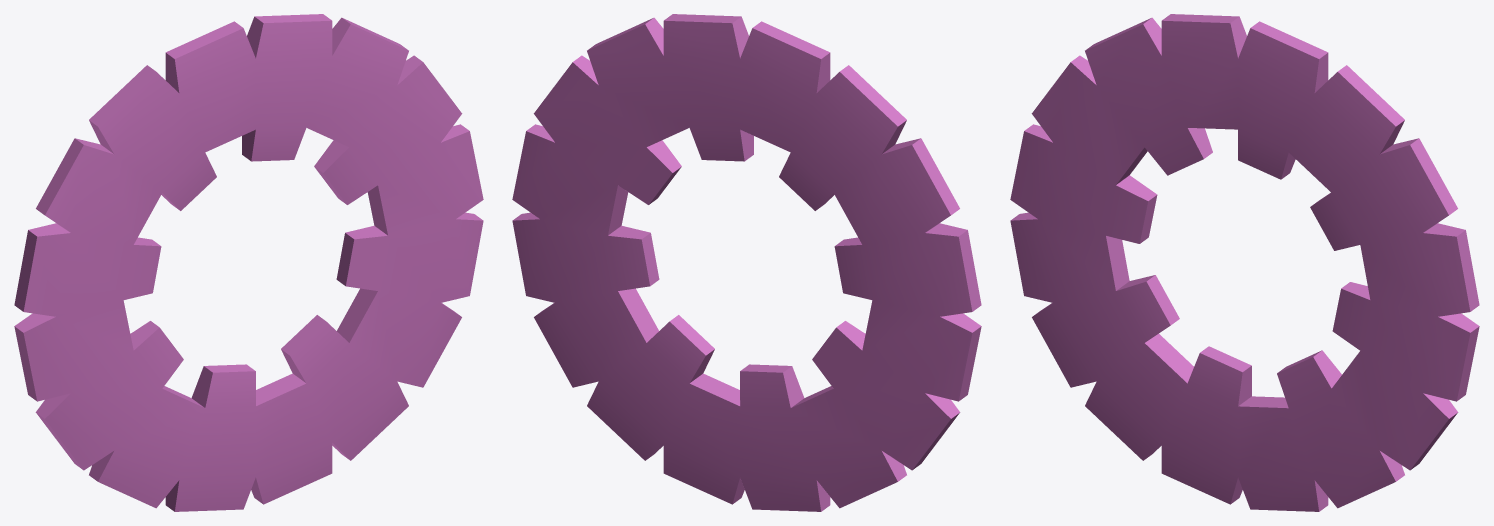
The model's file is Gear_02.fbx.
3 renders of one model, left to right at view 1: azimuth 30°, elevation 25°; view 2: azimuth 150°, elevation 25°; view 3: azimuth 330°, elevation 25°, orthographic.
Parts seen in each view (by area): view 1: Gear_02; view 2: Gear_02; view 3: Gear_02.
Part boxes in pixels (left/top/right/bottom): Gear_02: left=14, top=14, right=483, bottom=511; Gear_02: left=512, top=14, right=981, bottom=511; Gear_02: left=1010, top=14, right=1479, bottom=511.
Size of the model in its own units: 440 by 440 by 22.75.
